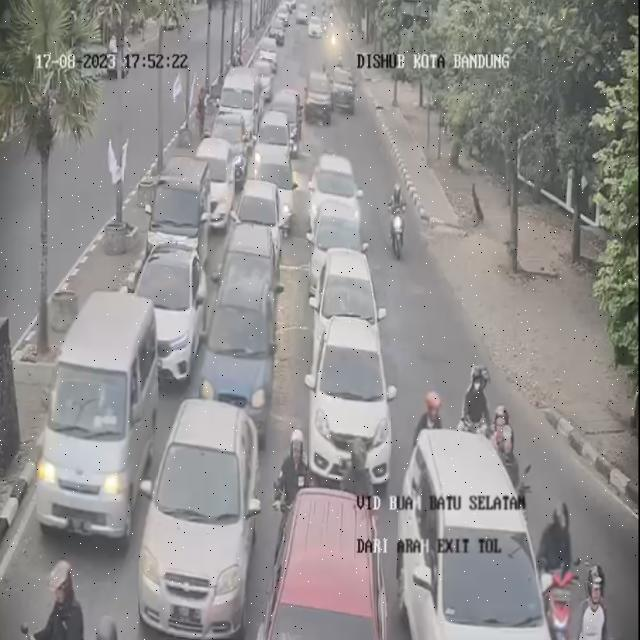cars: (398, 425, 560, 640), (140, 390, 267, 637), (37, 294, 158, 552), (253, 488, 385, 639), (199, 221, 280, 451), (309, 316, 391, 497), (135, 248, 207, 377), (314, 239, 384, 353), (151, 158, 212, 274), (314, 194, 364, 288), (236, 176, 285, 269), (193, 140, 235, 228), (312, 153, 358, 232), (256, 146, 296, 228), (212, 111, 251, 178), (266, 90, 304, 151), (223, 70, 259, 131), (259, 112, 290, 170), (333, 68, 359, 122), (306, 69, 331, 124), (254, 59, 281, 101), (306, 15, 326, 44), (296, 1, 311, 24)
motorcycle: (536, 497, 578, 637), (42, 557, 91, 639), (564, 565, 608, 640), (458, 362, 488, 438), (492, 401, 518, 478), (388, 179, 412, 260), (418, 386, 446, 440), (88, 614, 134, 640)
